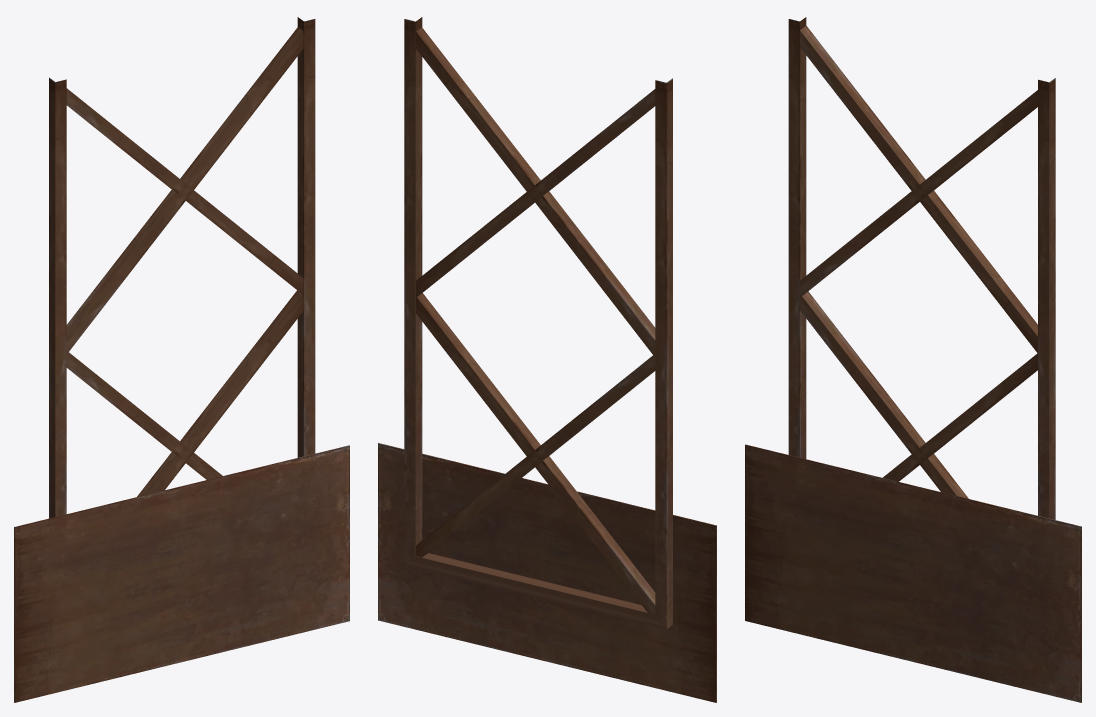
The model's file is mt_sign_b.glb.
3 renders of one model, left to right at view 1: azimuth 30°, elevation 25°; view 2: azimuth 150°, elevation 25°; view 3: azimuth 330°, elevation 25°, orthographic.
Parts seen in each view (by area): view 1: mt_sign_b; view 2: mt_sign_b; view 3: mt_sign_b.
Boxes of the visible parts, x1,y1,x2,y2 form: mt_sign_b: [14, 17, 349, 702]; mt_sign_b: [378, 17, 716, 702]; mt_sign_b: [745, 17, 1081, 702].
Bounding box in the file's own units: 2.97 × 5.16 × 0.1194.
Materials: 1 (1 with a texture image).
